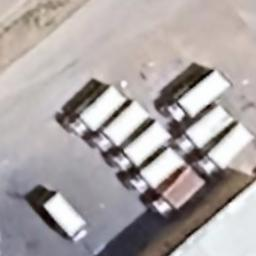truck: (164, 67, 234, 125), (60, 83, 128, 139), (192, 120, 256, 178), (108, 120, 172, 174), (88, 99, 150, 154), (171, 104, 235, 155), (34, 188, 92, 244), (150, 164, 206, 222), (125, 144, 186, 195)
